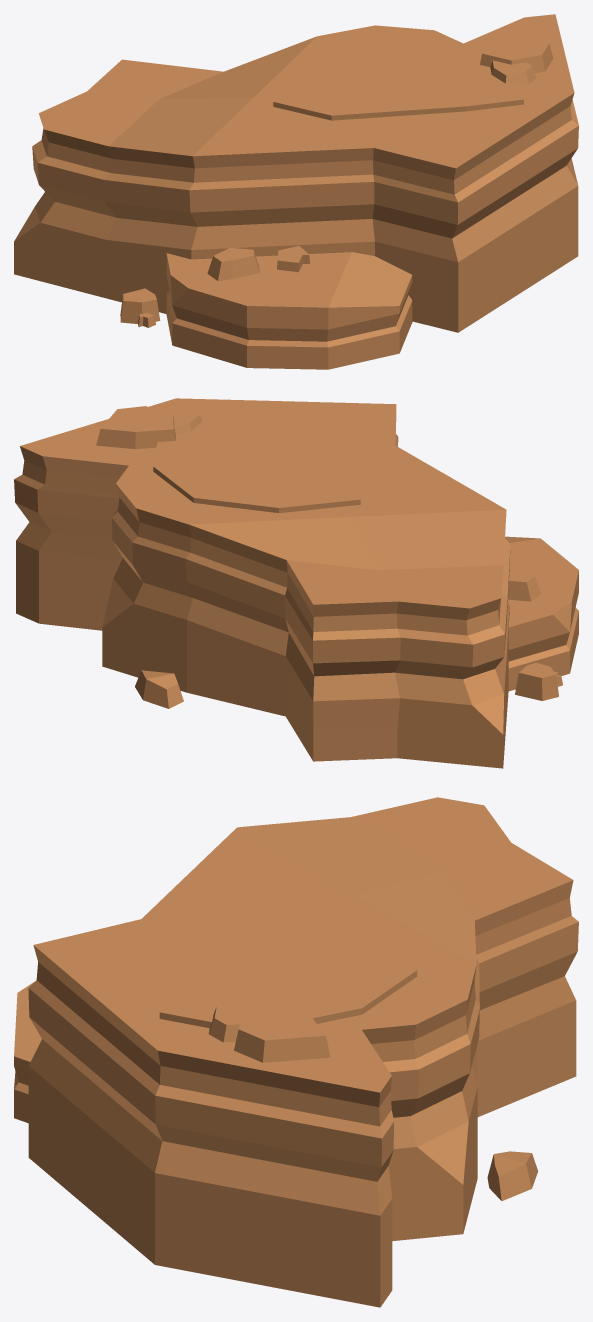
The model's file is SandRocks21_LOD1.fbx.
The picture shows the model from 3 angles, top to bottom: view 1: azimuth 30°, elevation 25°; view 2: azimuth 150°, elevation 25°; view 3: azimuth 270°, elevation 25°; orthographic projection. The views are drawn at different scales.
Parts seen in each view (by area): view 1: 21; view 2: 21; view 3: 21.
Part boxes in pixels (box(x1,y1,x2,y2)): 21: box(14, 14, 578, 369); 21: box(14, 398, 578, 768); 21: box(14, 797, 578, 1307).
Size of the model in its own units: 102 by 34.25 by 74.9.
